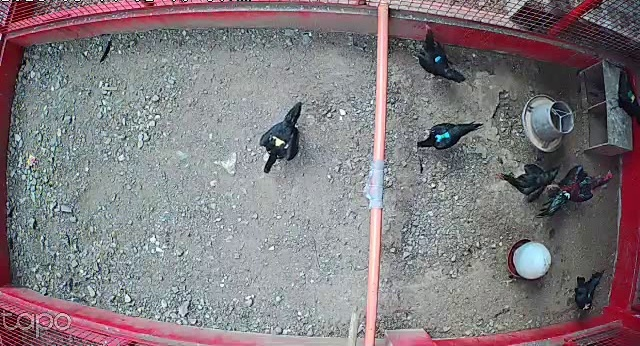Chicken: (409, 17, 467, 87), (258, 101, 311, 177), (492, 160, 563, 204), (607, 66, 640, 137), (412, 118, 481, 151), (561, 269, 606, 312)
Rooster: (537, 165, 612, 221)
Saddle_Color_Blue: (434, 55, 442, 64)
Saddle_Color_Yellow: (268, 133, 290, 149)
Saddle_Color_YellowGreen: (626, 90, 636, 103)
